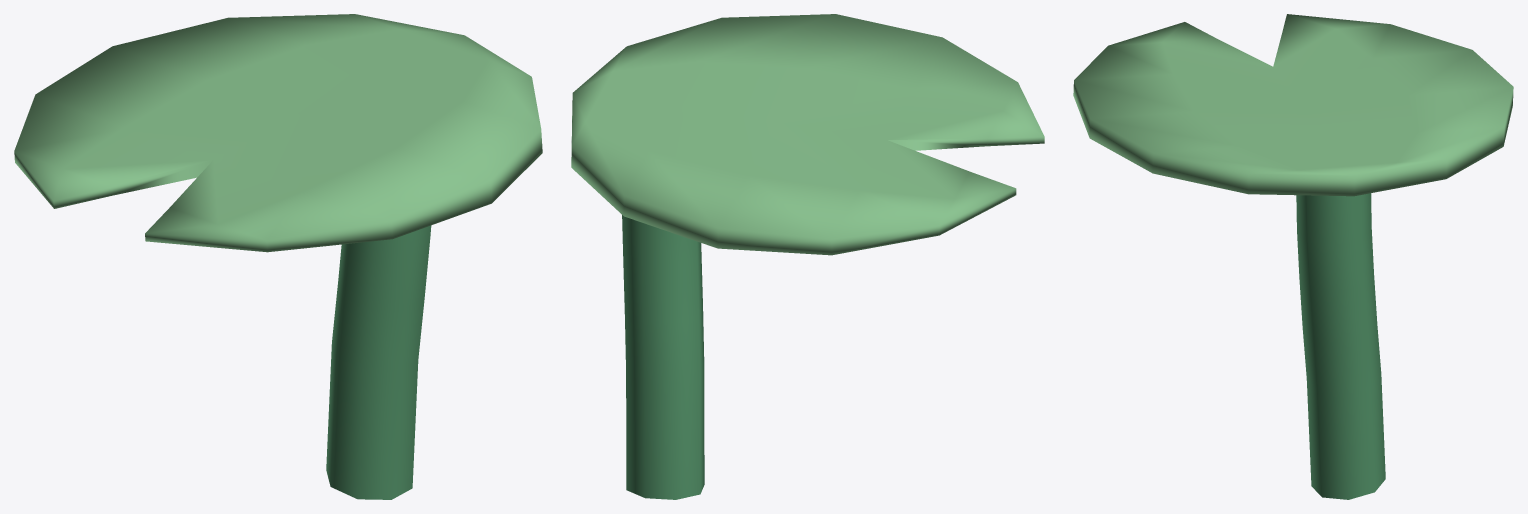
Rendered from lilypad5.fbx.
3 views of the same model, side by side, from view 1: azimuth 30°, elevation 25°; view 2: azimuth 150°, elevation 25°; view 3: azimuth 270°, elevation 25° (orthographic). The views are drawn at different scales.
Visible parts, largest first — view 1: lilypad5; view 2: lilypad5; view 3: lilypad5.
Part boxes in pixels (<box>): lilypad5: <box>14,14,542,499</box>; lilypad5: <box>571,14,1044,499</box>; lilypad5: <box>1073,14,1513,499</box>.
Size of the model in its own units: 41.43 by 37.04 by 41.59.
